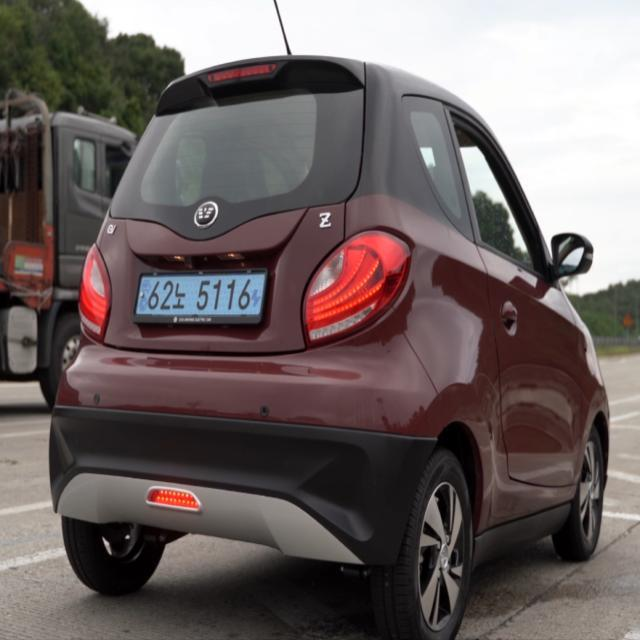car: (123, 261, 283, 337)
carev: (128, 264, 152, 331), (250, 264, 272, 326)
